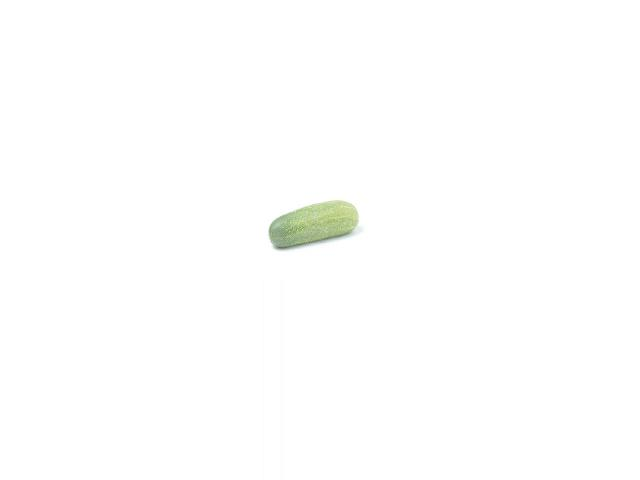cucumber: (268, 200, 358, 248)
